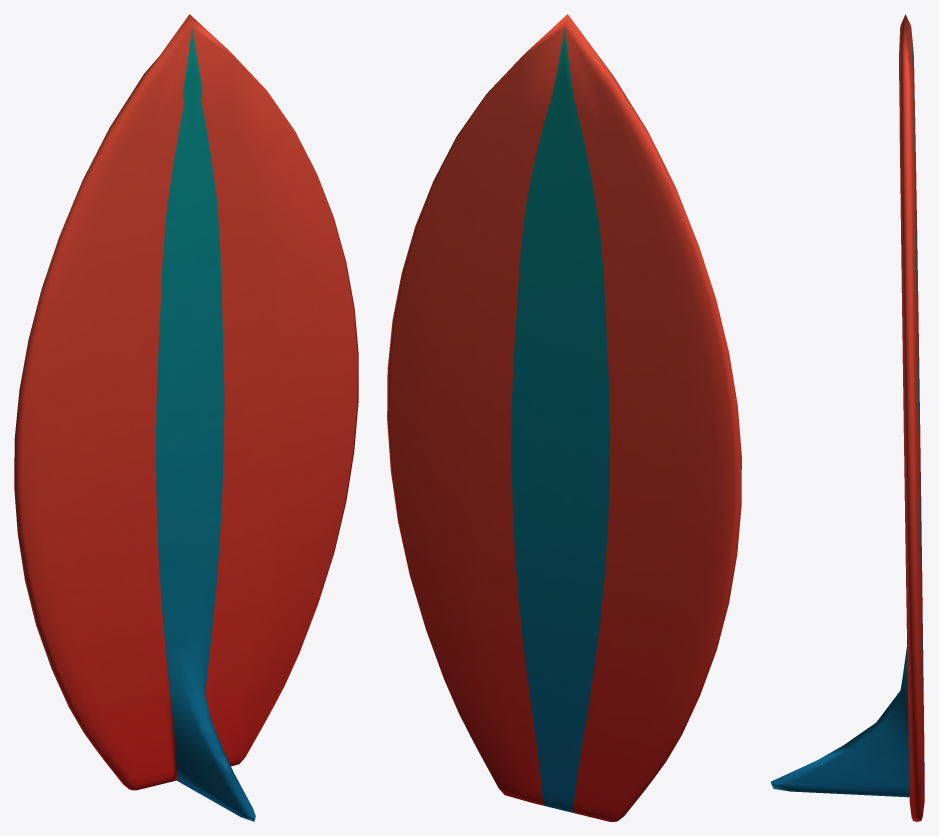
File: tabla3.fbx
3 renders of one model, left to right at view 1: azimuth 30°, elevation 25°; view 2: azimuth 150°, elevation 25°; view 3: azimuth 270°, elevation 25°, orthographic. The views are drawn at different scales.
Parts seen in each view (by area): view 1: tabla3; view 2: tabla3; view 3: tabla3.
Boxes of the visible parts, left/top/right/bottom form: tabla3: left=14, top=14, right=358, bottom=821; tabla3: left=387, top=14, right=741, bottom=821; tabla3: left=770, top=14, right=924, bottom=821.
Bounding box in the file's own units: 81.87 × 174 × 31.13.
Materials: 1 (1 with a texture image).
